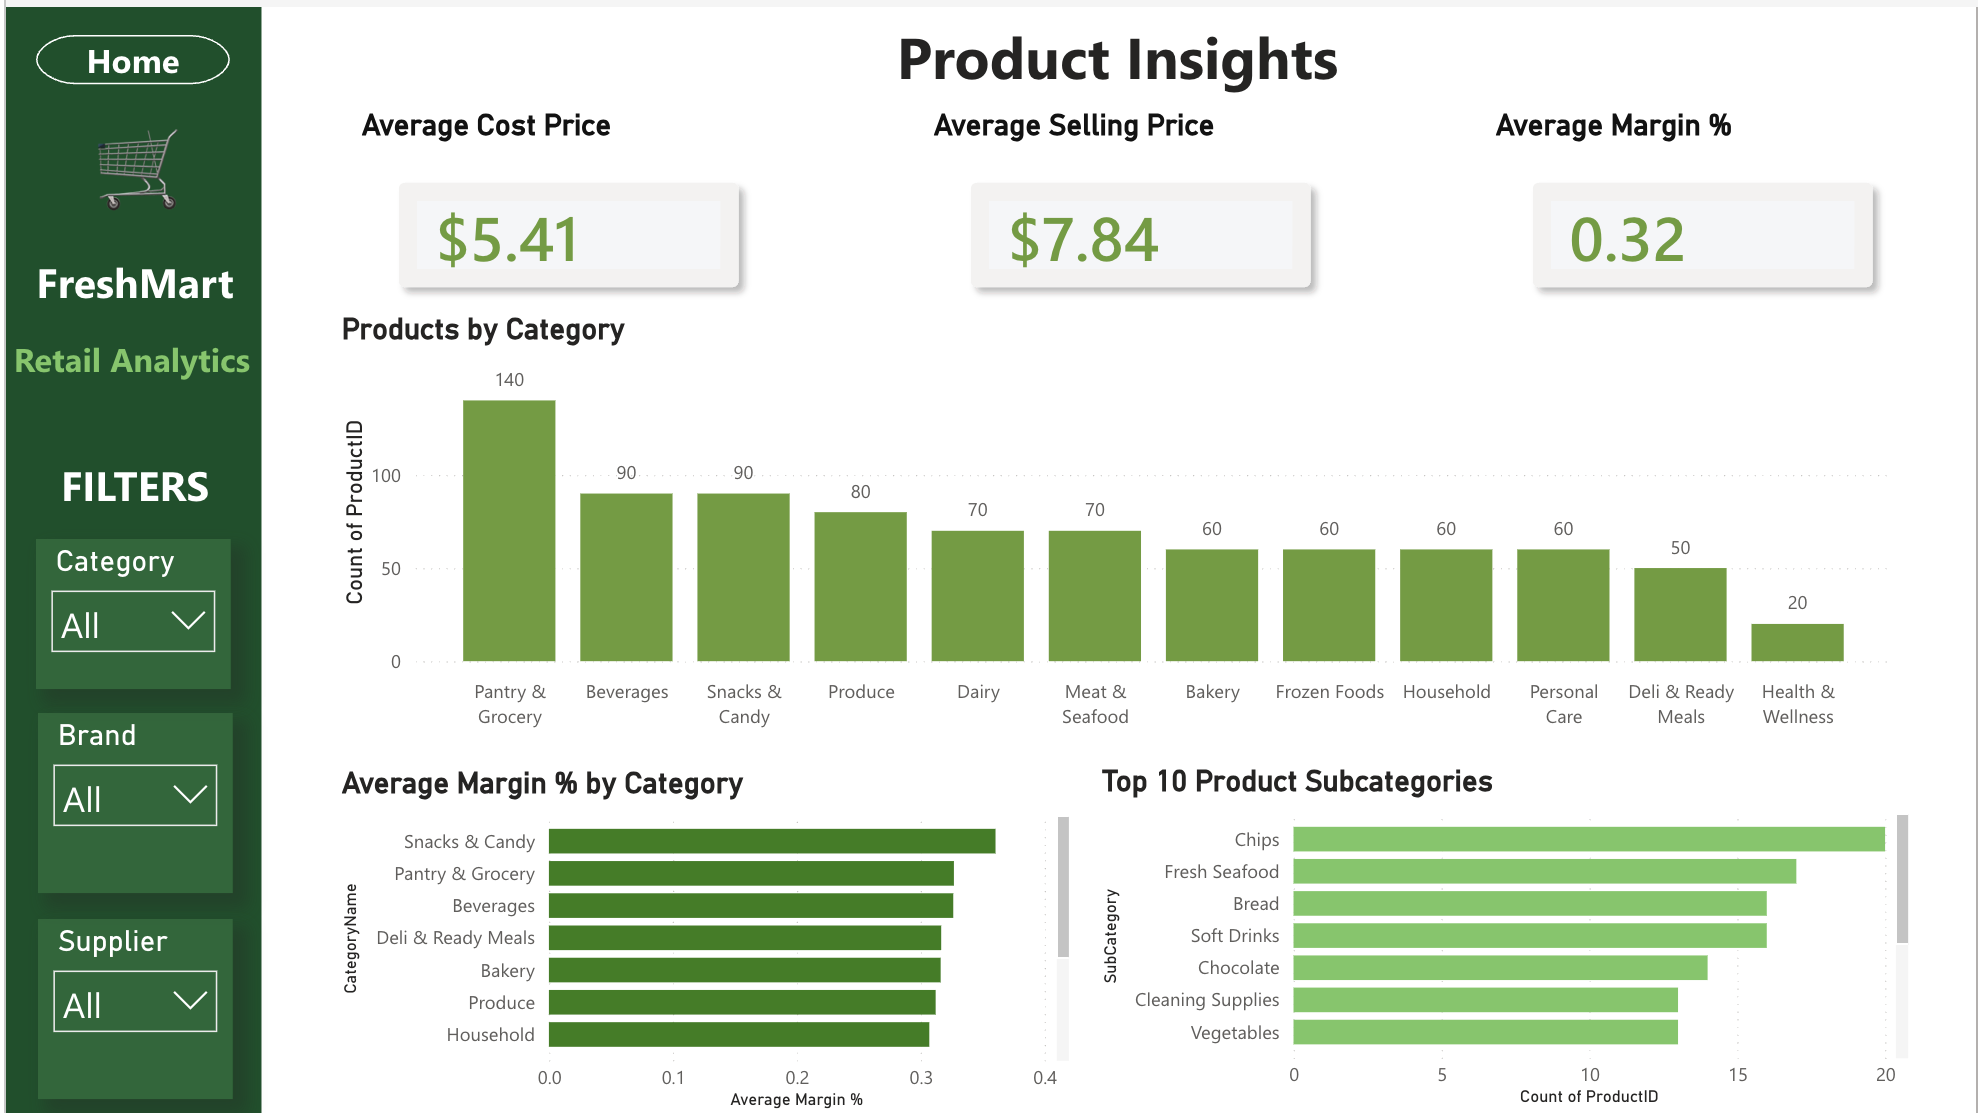

The dashboard page shown, as its layout file describes it:
{"tool":"powerbi","page":{"name":"Product Insights","canvas":[1280,720],"ordinal":5},"visuals":[{"type":"textbox","box":[353.2,1.7,737.3,67.2],"z":0},{"type":"shape","box":[0,0,166.1,719.9],"z":1000},{"type":"textbox","box":[0,49.6,177.6,241.6],"z":2000},{"type":"cardVisual","title":"Average Cost Price","fields":{"Data":["Measure.Average Cost Price"]},"box":[226.7,68,279,144],"z":3000},{"type":"cardVisual","title":"Average Selling Price","fields":{"Data":["Measure.Average Selling Price"]},"box":[597.3,68,279,144],"z":4000},{"type":"cardVisual","title":"Average Margin %","fields":{"Data":["Measure.Average Margin %"]},"box":[962.7,68,279,144],"z":5000},{"type":"clusteredColumnChart","title":"Products by Category","fields":{"Category":["Categories.CategoryName"],"Y":["Count(ProductMaster.ProductID)"]},"box":[212.8,200,1017.3,276],"z":6000},{"type":"clusteredBarChart","title":"Average Margin % by Category","fields":{"Category":["Categories.CategoryName"],"Y":["Measure.Average Margin %"]},"box":[213.3,494.7,482.7,225.3],"z":7000},{"type":"clusteredBarChart","title":"Top 10 Product Subcategories","fields":{"Category":["ProductMaster.SubCategory"],"Y":["CountNonNull(ProductMaster.ProductID)"]},"box":[707.2,494.4,534,225],"z":8000},{"type":"pageNavigator","box":[19.2,17.6,126.4,32],"z":9000},{"type":"textbox","box":[1.6,268.8,164.8,249.6],"z":9001},{"type":"slicer","fields":{"Values":["Categories.CategoryName"]},"box":[19.2,345.6,126.4,97.6],"z":9002},{"type":"slicer","fields":{"Values":["ProductMaster.Brand"]},"box":[20.8,459.2,126.4,116.8],"z":9003},{"type":"slicer","fields":{"Values":["Supplier_Master.SupplierName"]},"box":[20.8,592,126.4,116.8],"z":9004}]}

Visuals, with their boxes in screenshot pixels (x1, y1, x2, y2), scaled from the page's 1280x720 canvas onto the 1978x1113 screenshot:
textbox: rect(546, 3, 1685, 107)
shape: rect(0, 0, 257, 1112)
textbox: rect(0, 77, 274, 450)
"Average Cost Price" cardVisual: rect(350, 105, 781, 328)
"Average Selling Price" cardVisual: rect(923, 105, 1354, 328)
"Average Margin %" cardVisual: rect(1488, 105, 1919, 328)
"Products by Category" clusteredColumnChart: rect(329, 309, 1901, 736)
"Average Margin % by Category" clusteredBarChart: rect(330, 765, 1076, 1112)
"Top 10 Product Subcategories" clusteredBarChart: rect(1093, 764, 1918, 1112)
pageNavigator: rect(30, 27, 225, 77)
textbox: rect(2, 416, 257, 801)
slicer - Categories.CategoryName: rect(30, 534, 225, 685)
slicer - ProductMaster.Brand: rect(32, 710, 227, 890)
slicer - Supplier_Master.SupplierName: rect(32, 915, 227, 1096)
